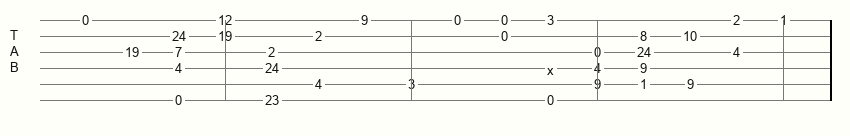0: (82, 13, 93, 27), (175, 93, 186, 107), (454, 13, 465, 27), (501, 13, 512, 27), (501, 29, 512, 43), (547, 93, 558, 107), (594, 45, 605, 59)
1: (640, 77, 651, 91), (780, 13, 791, 27)
10: (683, 29, 701, 43)
12: (218, 13, 236, 27)
19: (125, 45, 143, 59), (218, 29, 236, 43)
2: (268, 45, 279, 59), (315, 29, 326, 43), (733, 13, 744, 27)
23: (265, 93, 283, 107)
24: (172, 29, 190, 43), (265, 61, 283, 75), (637, 45, 655, 59)
3: (408, 77, 419, 91), (547, 13, 558, 27)
4: (175, 61, 186, 75), (315, 77, 326, 91), (594, 61, 605, 75), (733, 45, 744, 59)
7: (175, 45, 186, 59)
8: (640, 29, 651, 43)
9: (361, 13, 372, 27), (594, 77, 605, 91), (640, 61, 651, 75), (687, 77, 698, 91)
x: (547, 63, 558, 74)
